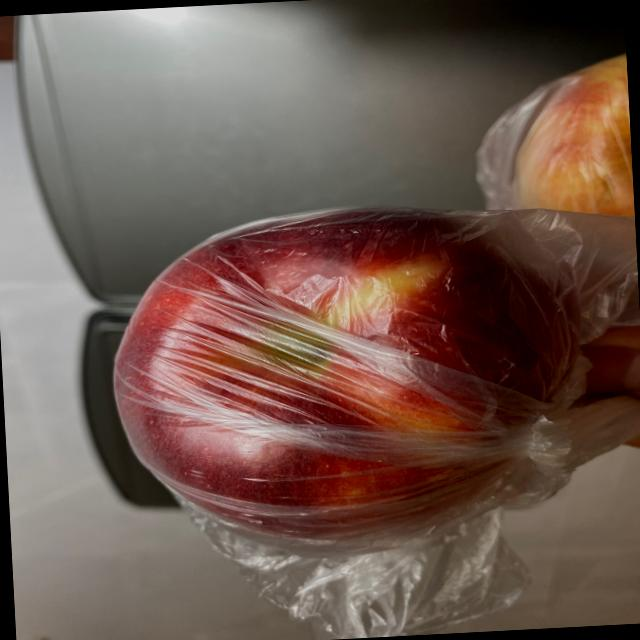apple: (98, 51, 640, 590)
